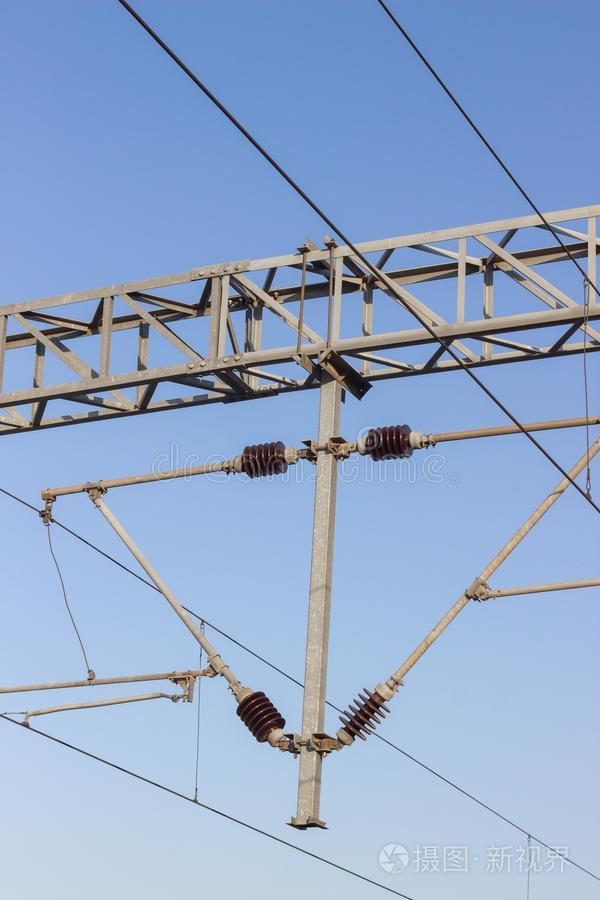insulator: (338, 681, 391, 738), (230, 693, 289, 740), (237, 442, 291, 482), (369, 423, 416, 463)
